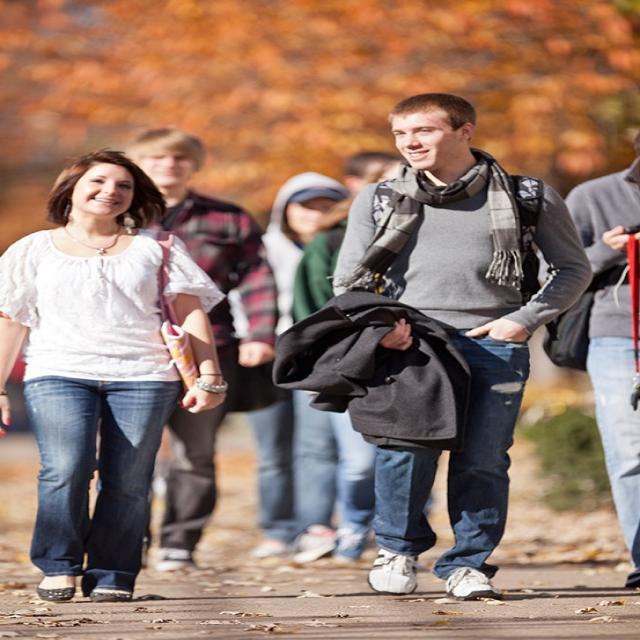body: (325, 92, 595, 600), (0, 144, 233, 607), (92, 127, 282, 577), (289, 157, 432, 570), (257, 170, 378, 563), (556, 129, 640, 589), (329, 147, 406, 192)
